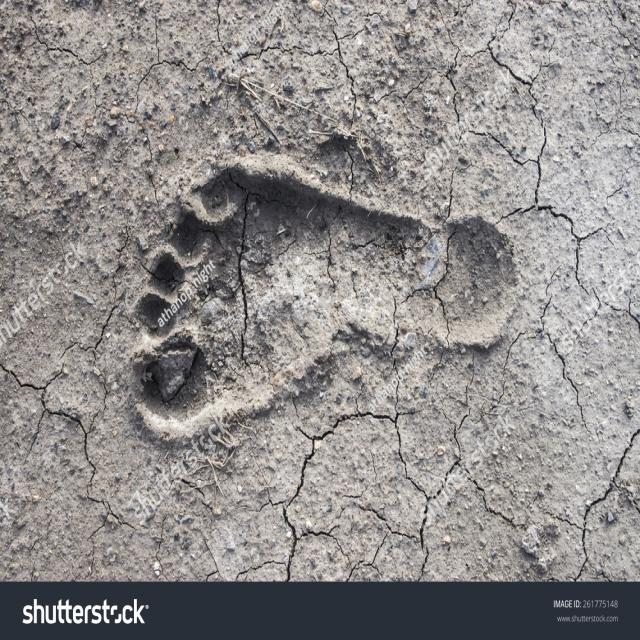human_foot_print: (127, 152, 528, 446)
